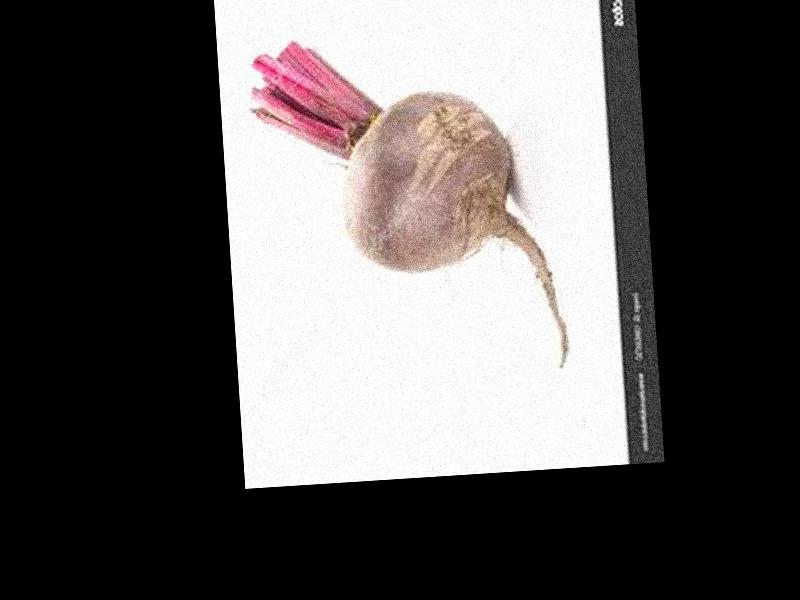Beet: (248, 28, 568, 387)
